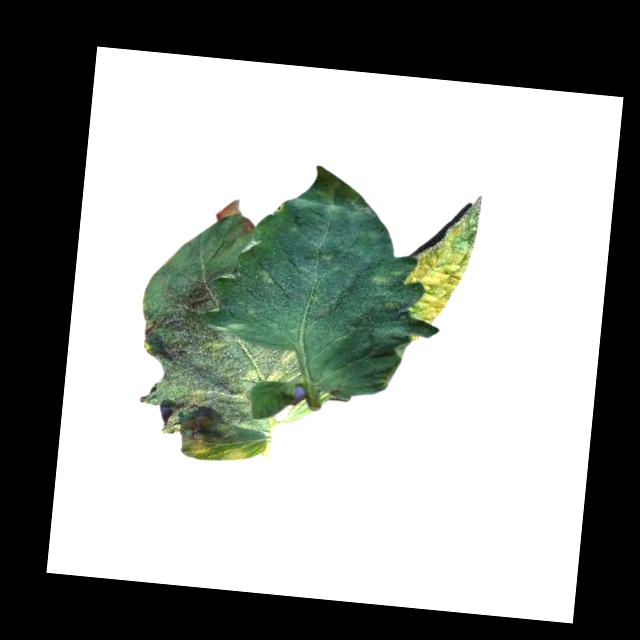Leaf_Mold: (134, 278, 315, 469), (398, 191, 481, 328), (363, 263, 402, 311)
